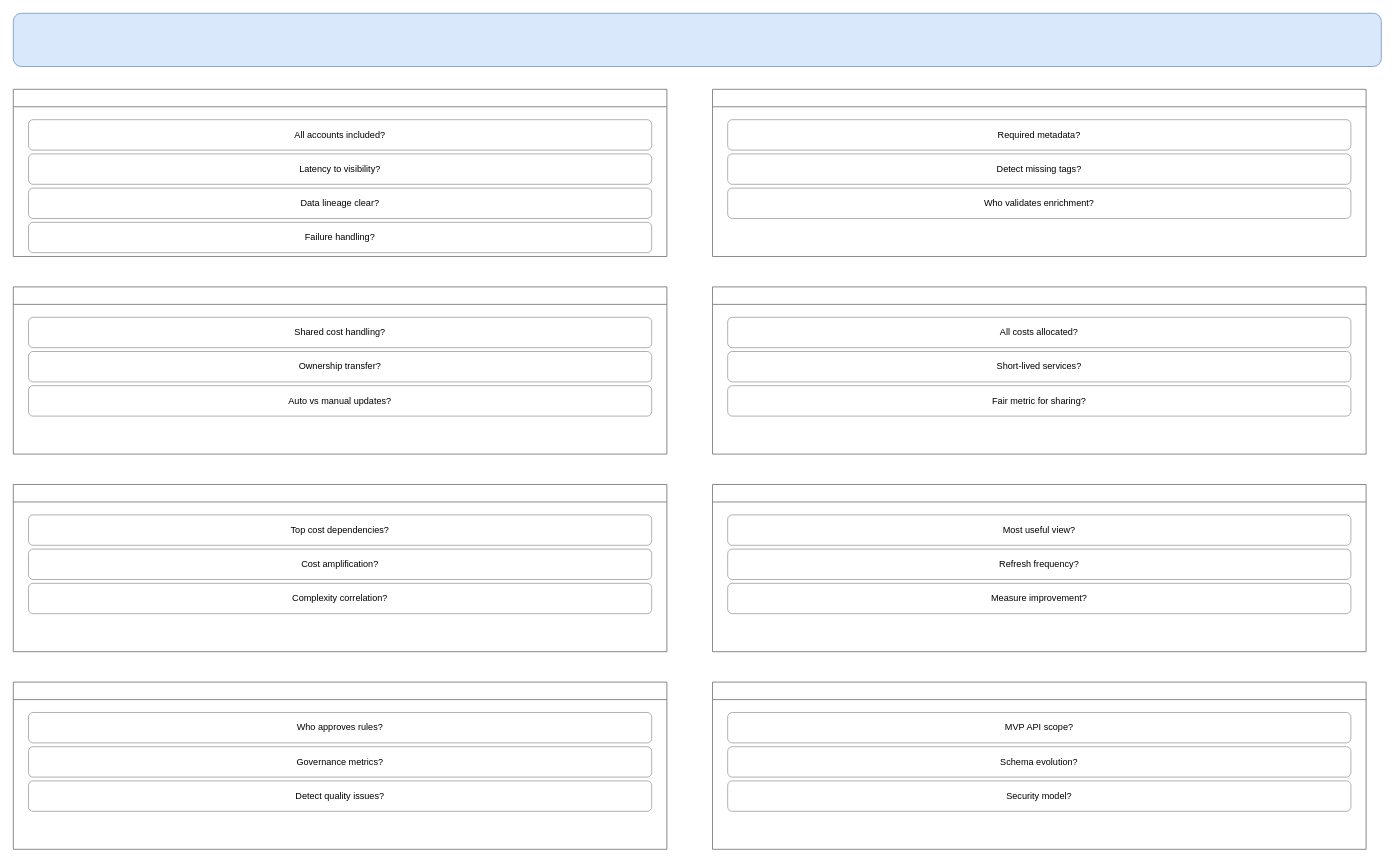
Some shapes in this 1395 by 863 pixel diagram are drawn without their labels. The box of each missing label's shape, as (x1, y1, x2, y2) in pixels:
Cost Attribution & Allocation: (712, 286, 1366, 454)
Data Ingestion: (13, 89, 667, 256)
Governance & Policy: (13, 681, 667, 849)
Graph Model & Relationships: (13, 484, 667, 652)
Insights & Decision Enablement: (712, 484, 1366, 652)
Integration & Extensibility: (712, 681, 1366, 849)
Normalisation & Enrichment: (712, 89, 1366, 256)
Project Prometheus – Key Questions Recap: (13, 13, 1381, 66)
Service & Application Mapping: (13, 286, 667, 454)
